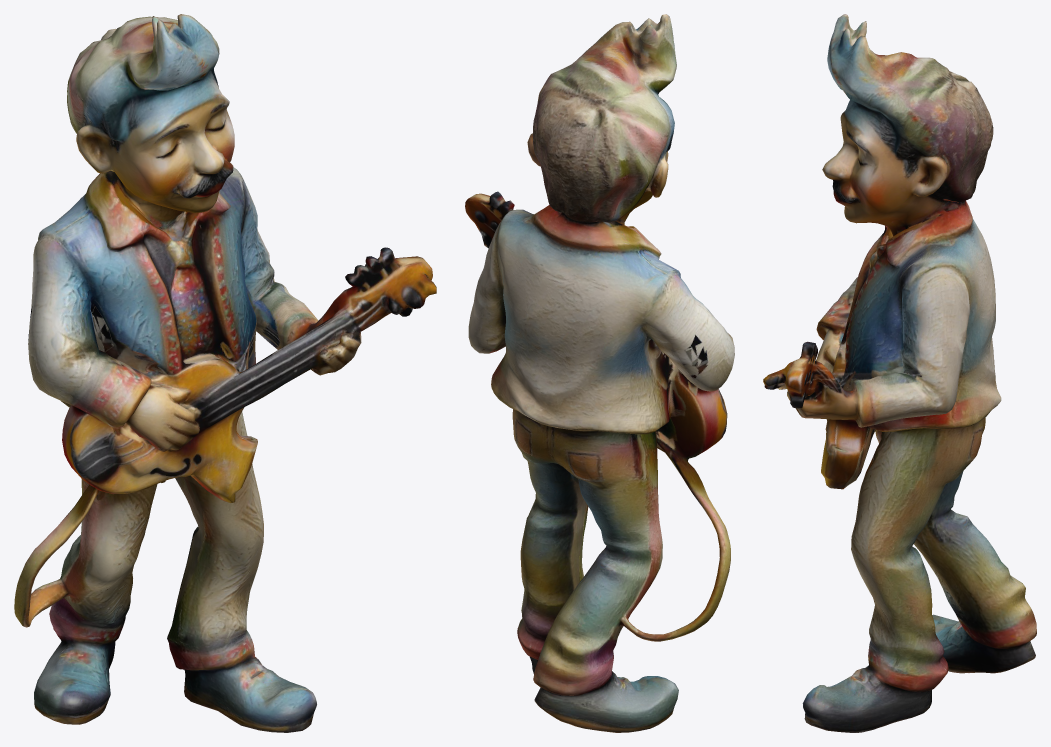
The model's file is market-musician.glb.
3 views of the same model, side by side, from view 1: azimuth 30°, elevation 25°; view 2: azimuth 150°, elevation 25°; view 3: azimuth 270°, elevation 25° (orthographic). The views are drawn at different scales.
Parts seen in each view (by area): view 1: Mesh1.0; view 2: Mesh1.0; view 3: Mesh1.0.
Part boxes in pixels (bbox=[...]): Mesh1.0: bbox=[14, 14, 436, 732]; Mesh1.0: bbox=[465, 14, 734, 732]; Mesh1.0: bbox=[763, 14, 1036, 732].
Bounding box in the file's own units: 1 × 2.01 × 0.7572.
1 material, 1 textured.
